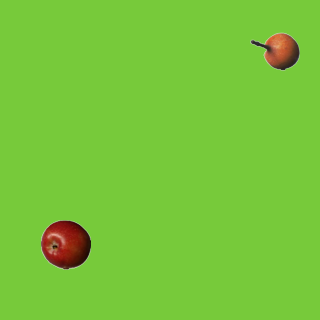Apple Braeburn: (40, 219, 90, 269)
Granadilla: (249, 26, 299, 76)
